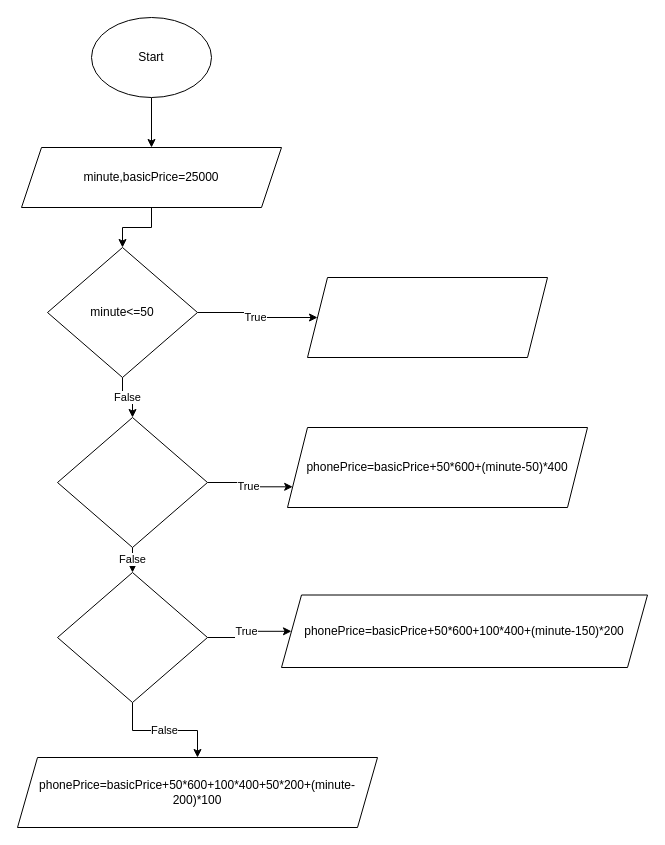
This 665x845 diagram has some shape labels left out. Here are the shapes that lost their labels. From the top down, the centre of each, then its label:
At pixel 427 317: "phonePrice=basicPrice+minute*600".
At pixel 132 482: "minute<=150".
At pixel 132 637: "minute<=200".
